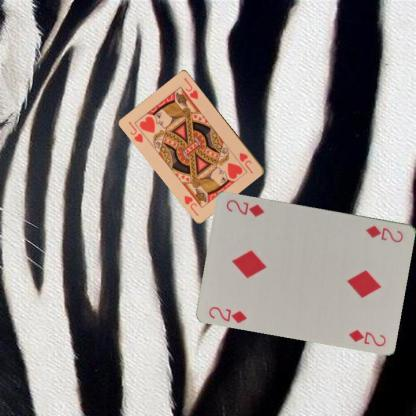2d: (206, 303, 249, 325), (363, 222, 405, 244)
Jh: (126, 119, 144, 144), (237, 150, 254, 175)
